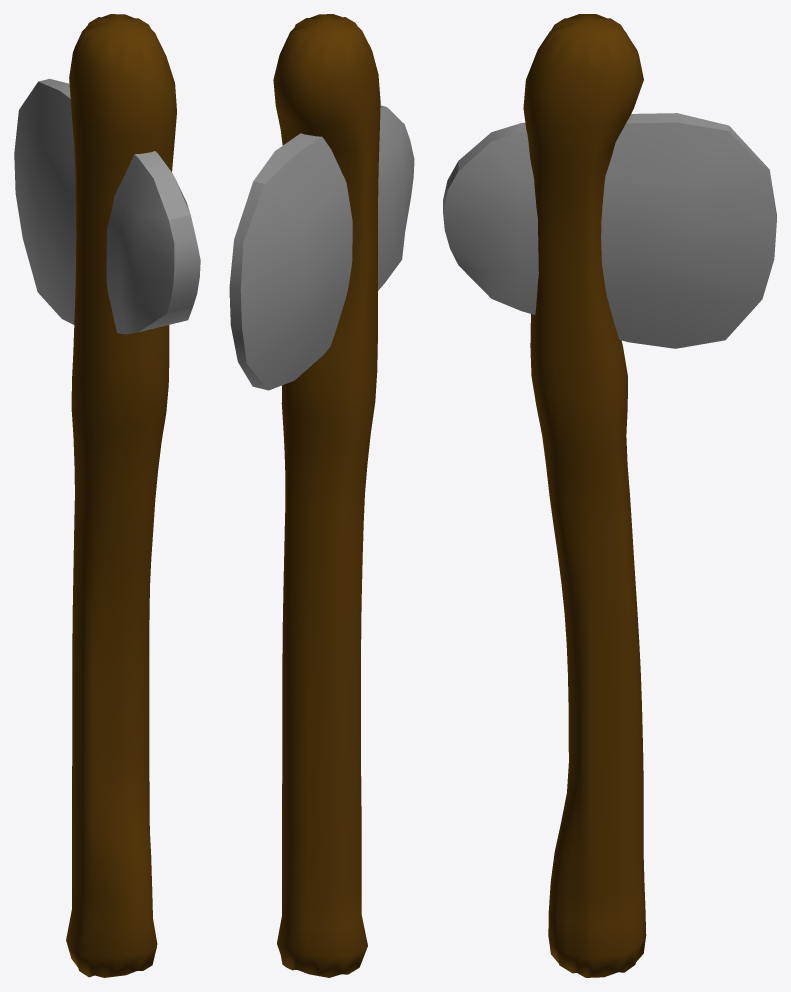
Rendered from Axe_updated.fbx.
The picture shows the model from 3 angles, left to right: view 1: azimuth 30°, elevation 25°; view 2: azimuth 150°, elevation 25°; view 3: azimuth 270°, elevation 25°; orthographic projection.
Visible parts, largest first — view 1: Axe; view 2: Axe; view 3: Axe.
Boxes of the visible parts, x1=… form: Axe: x1=14, y1=14, x2=200, y2=977; Axe: x1=229, y1=14, x2=414, y2=977; Axe: x1=443, y1=14, x2=776, y2=977.
Bounding box in the file's own units: 139 × 1430 × 456.
